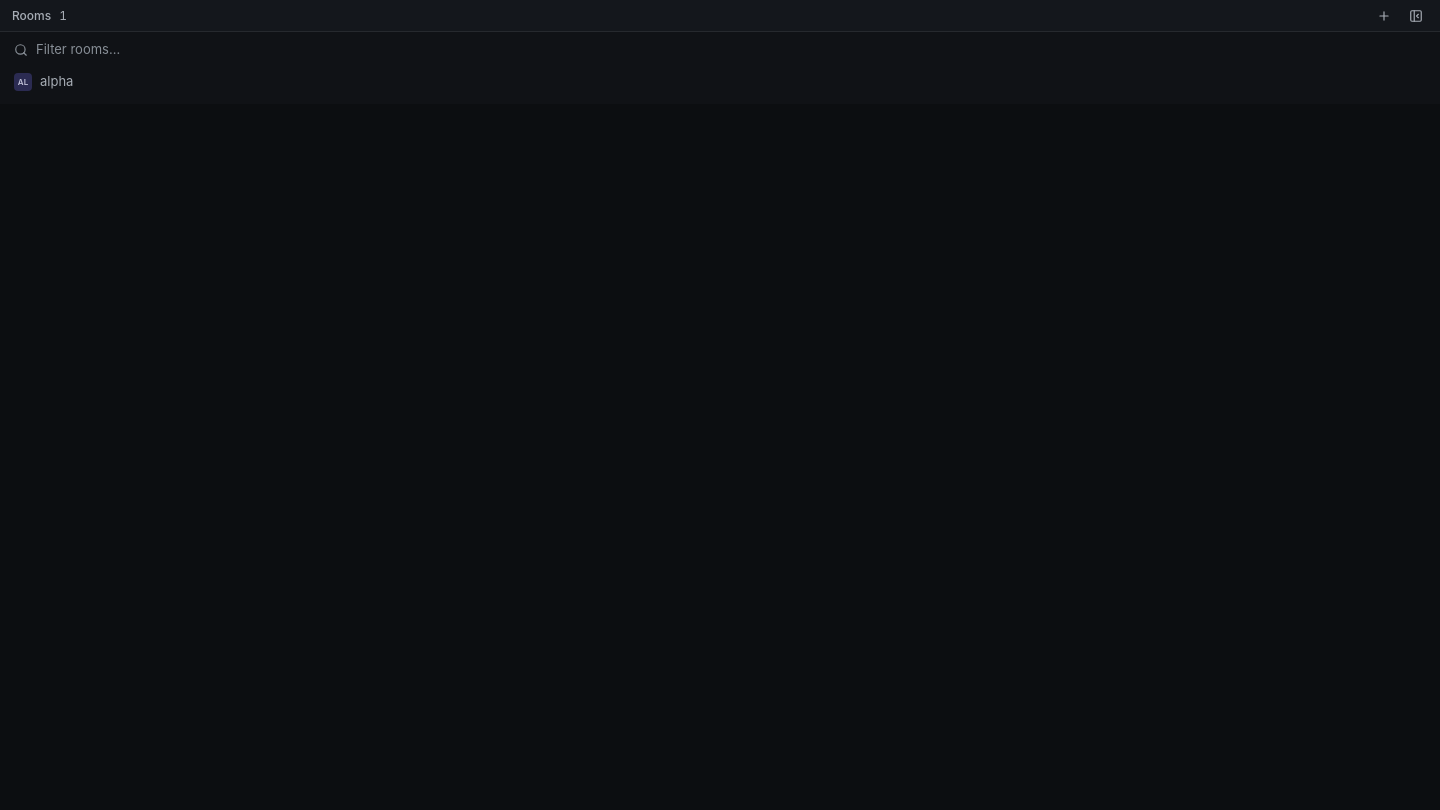
Test case: <RoomsSidebar /> folders › makes a folder from the + menu
Click the button named "New room or folder": (1384, 16) 1372,4 -> 1396,28
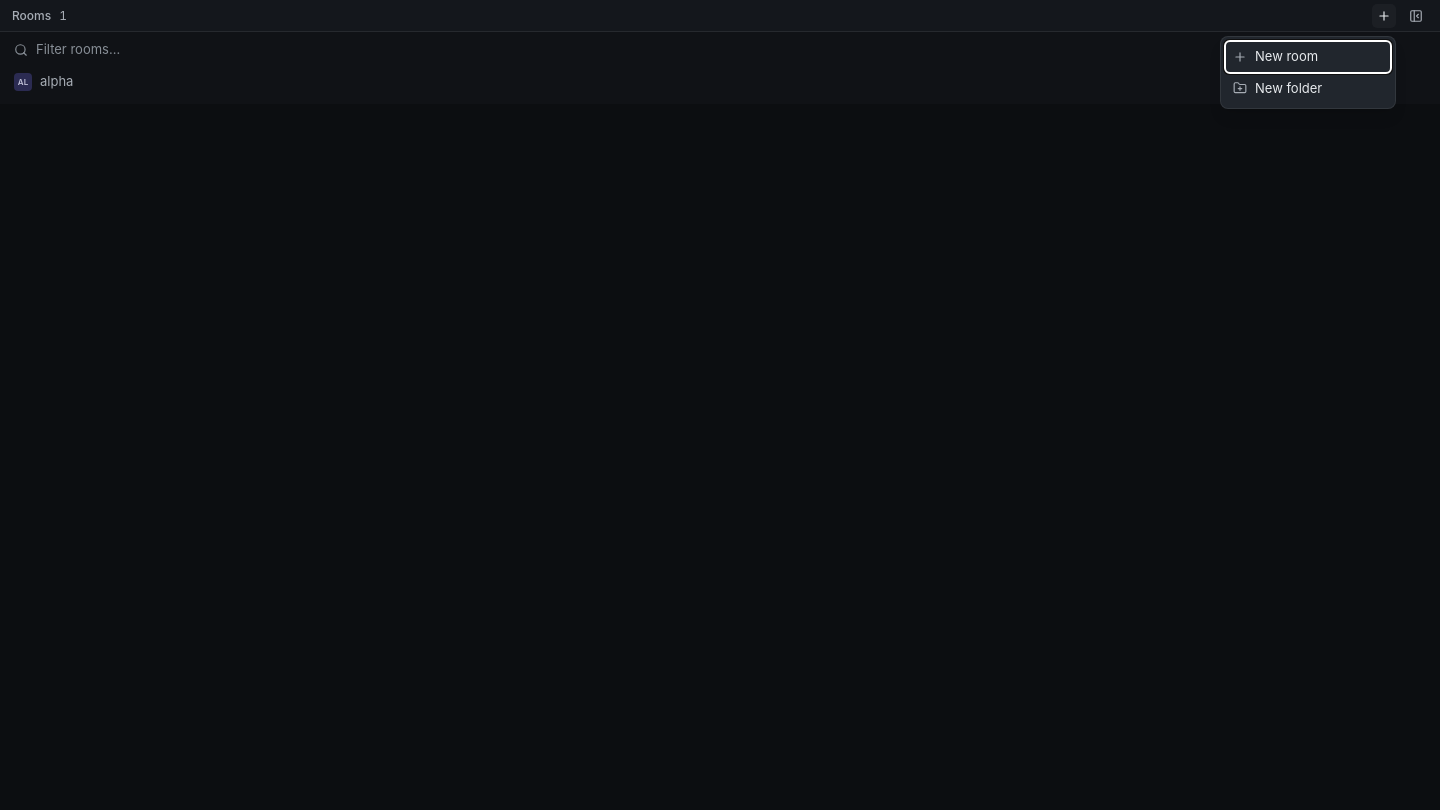
Click the button "New folder": (1308, 88) 1225,72 -> 1391,104
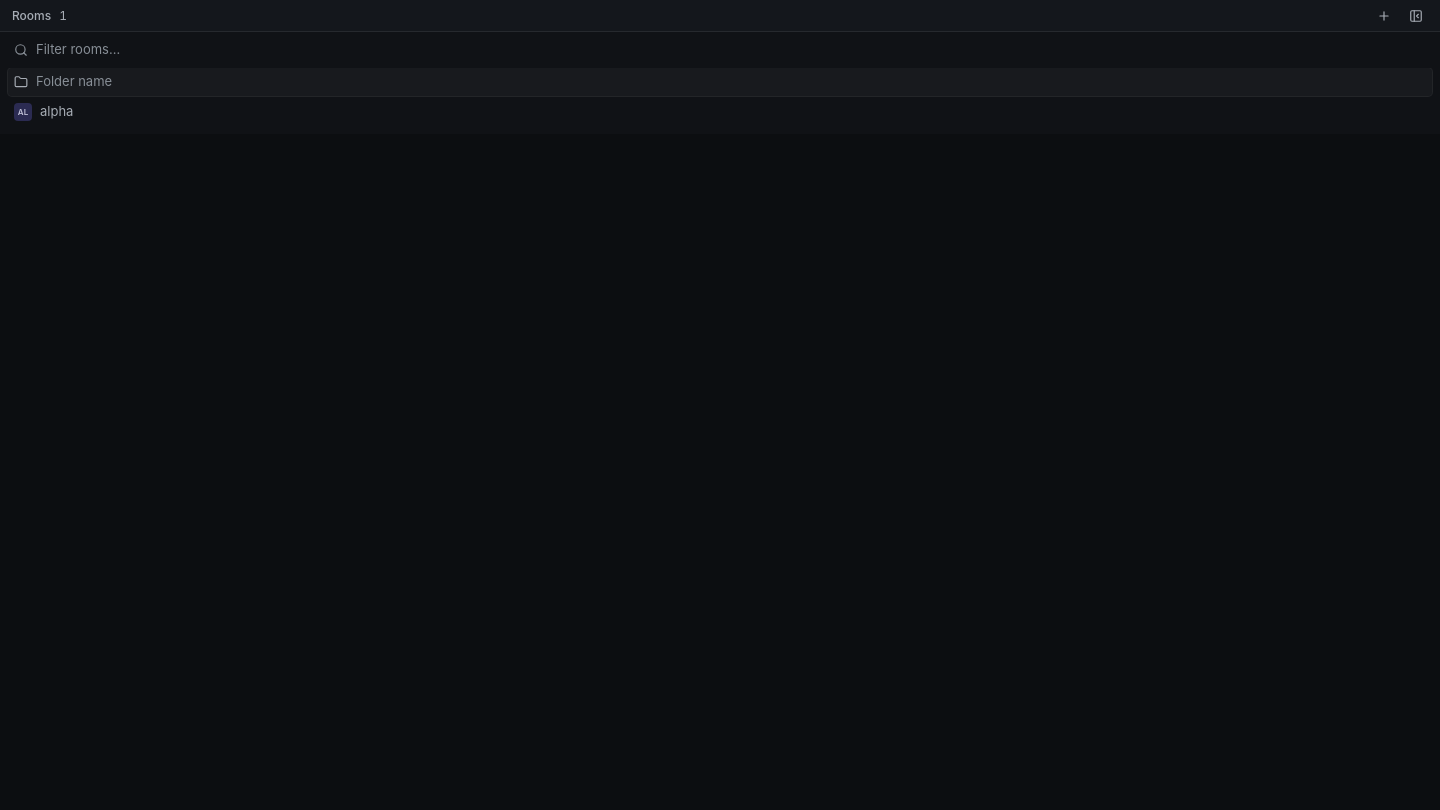
Type keys "Side projects{Enter}"
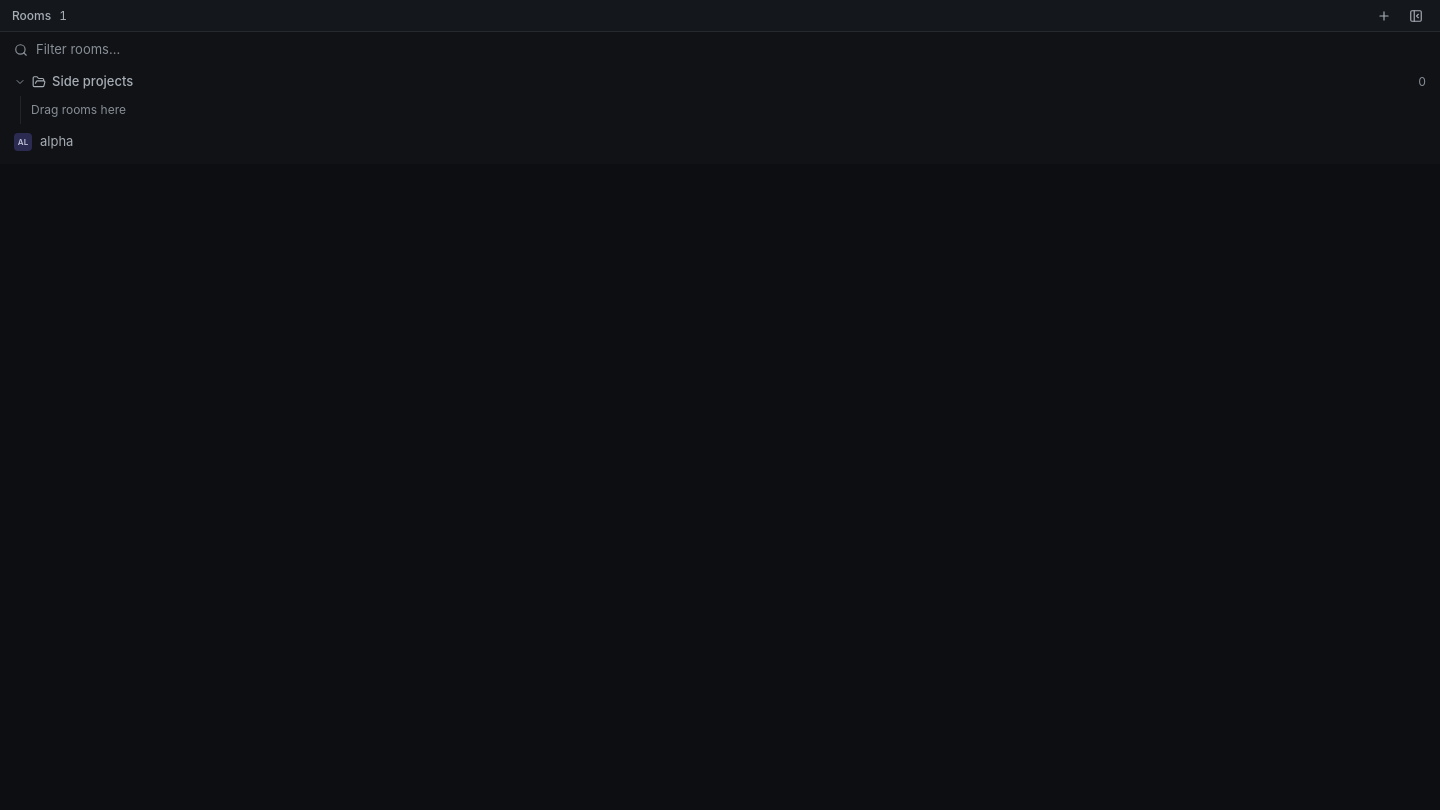
Result: the button with aria-label "Side projects folder, 0 rooms" is shown at 8,68 -> 1432,96
